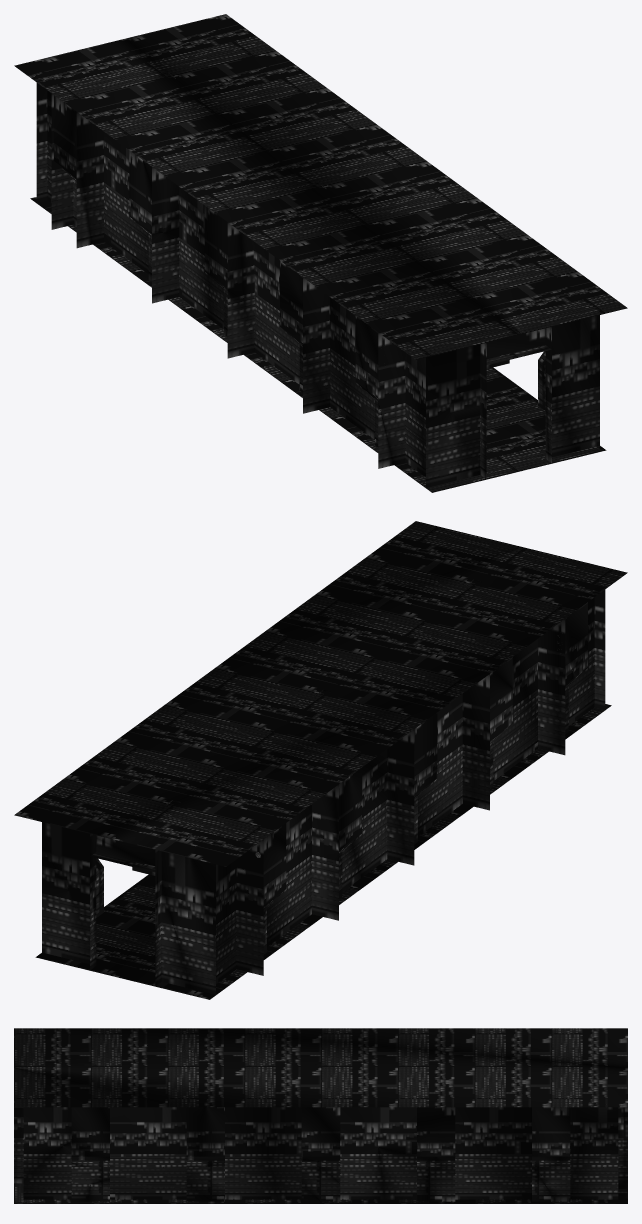
Rendered from room2_5_opt.obj.
3 renders of one model, top to bottom at view 1: azimuth 30°, elevation 25°; view 2: azimuth 150°, elevation 25°; view 3: azimuth 270°, elevation 25°, orthographic. The views are drawn at different scales.
Size of the model in its own units: 31.2 by 19.39 by 102.
5 materials, 5 textured.
